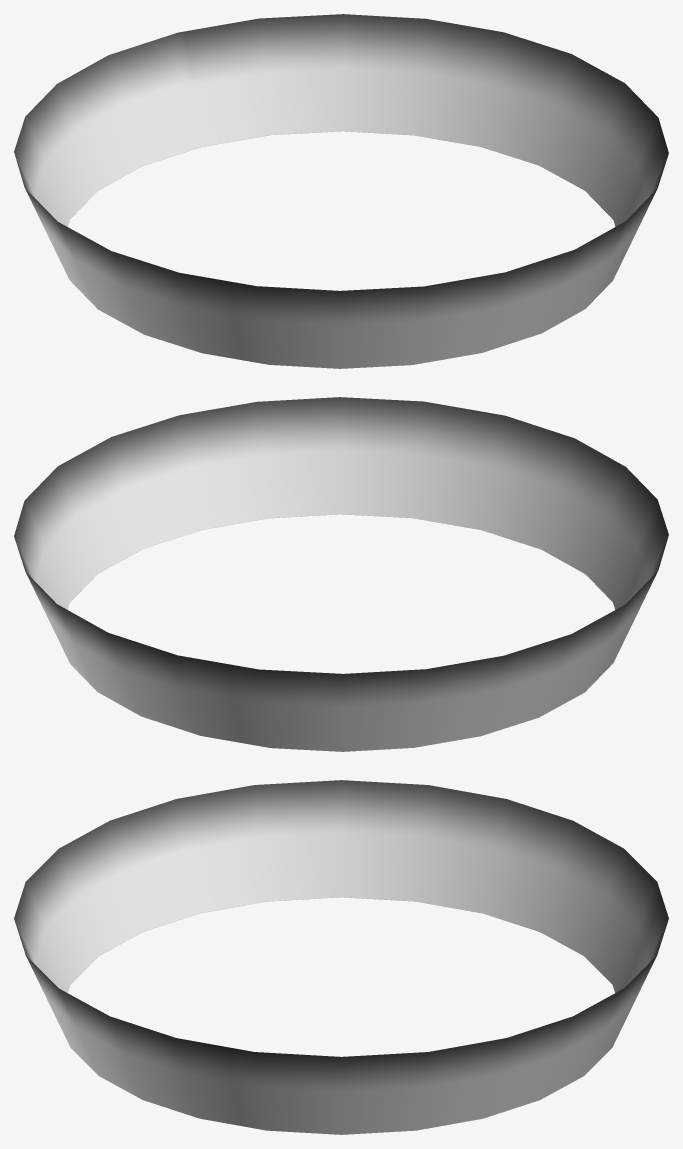
3 renders of one model, top to bottom at view 1: azimuth 30°, elevation 25°; view 2: azimuth 150°, elevation 25°; view 3: azimuth 270°, elevation 25°, orthographic.
Visible parts, largest first — view 1: Fx_Circle_1; view 2: Fx_Circle_1; view 3: Fx_Circle_1.
Part boxes in pixels (box(x1,y1,x2,y2)): Fx_Circle_1: box(14, 14, 668, 368); Fx_Circle_1: box(14, 397, 668, 751); Fx_Circle_1: box(14, 780, 668, 1134).
Bounding box in the file's own units: 111 × 111 × 18.33.
